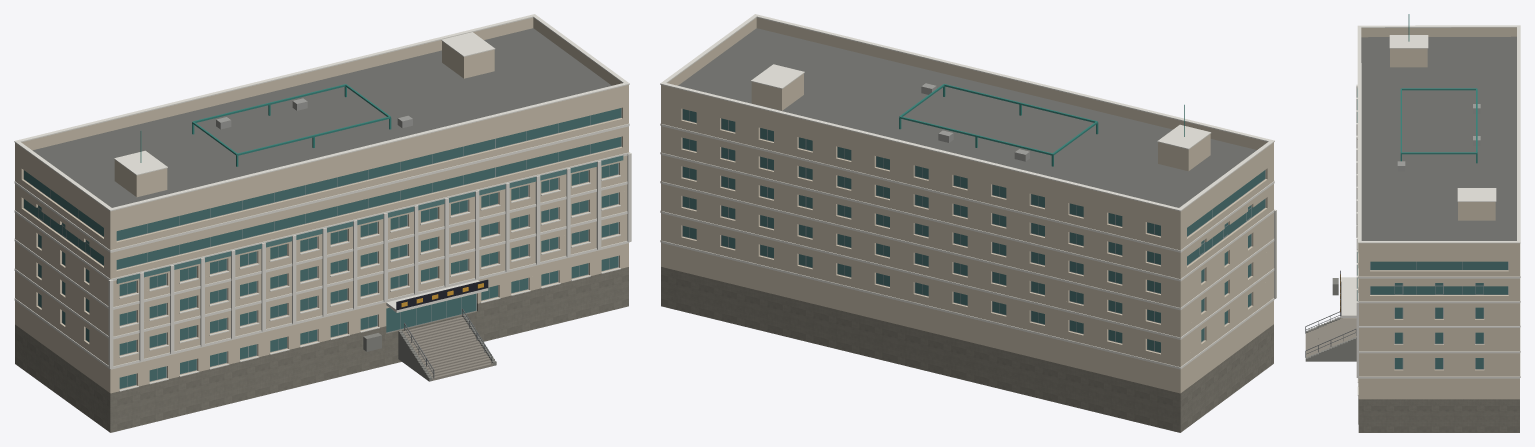
The picture shows the model from 3 angles, left to right: view 1: azimuth 30°, elevation 25°; view 2: azimuth 150°, elevation 25°; view 3: azimuth 270°, elevation 25°; orthographic projection. The views are drawn at different scales.
Parts seen in each view (by area): view 1: w451562739__panel-wall, w451562739__roof, w451562739__trim, w451562739__glass, w451562739__plinth-wall, w451562739__frame, w451562739__stone-step, w451562739__panel-teal-wall, w451562739__door-glass, w451562739__steel-teal, w451562739__granite-wall, w451562739__led-dark; view 2: w451562739__panel-wall, w451562739__roof, w451562739__plinth-wall, w451562739__trim, w451562739__glass, w451562739__frame, w451562739__steel-teal; view 3: w451562739__roof, w451562739__panel-wall, w451562739__trim, w451562739__plinth-wall, w451562739__glass, w451562739__stone-step, w451562739__granite-wall, w451562739__steel-teal, w451562739__frame, w451562739__rail, w451562739__ac.
Part boxes in pixels (x1,y1,x2,y2): w451562739__panel-wall: (15,17,628,393); w451562739__roof: (32,28,611,207); w451562739__trim: (14,14,631,391); w451562739__glass: (24,108,621,388); w451562739__plinth-wall: (15,267,628,432); w451562739__frame: (23,108,621,389); w451562739__stone-step: (403,317,493,380); w451562739__panel-teal-wall: (116,155,623,283); w451562739__door-glass: (386,293,476,332); w451562739__steel-teal: (140,84,391,166); w451562739__granite-wall: (363,315,496,381); w451562739__led-dark: (396,279,488,309); w451562739__panel-wall: (661,17,1273,393); w451562739__roof: (678,28,1256,207); w451562739__plinth-wall: (661,267,1273,432); w451562739__trim: (660,14,1276,369); w451562739__glass: (683,109,1265,352); w451562739__frame: (682,109,1265,352); w451562739__steel-teal: (899,84,1184,166); w451562739__roof: (1361,36,1516,240); w451562739__panel-wall: (1358,27,1519,399); w451562739__trim: (1340,25,1520,395); w451562739__plinth-wall: (1358,396,1519,432); w451562739__glass: (1370,261,1507,368); w451562739__stone-step: (1305,318,1356,357); w451562739__granite-wall: (1305,278,1356,361); w451562739__steel-teal: (1400,14,1477,163); w451562739__frame: (1370,261,1508,369); w451562739__rail: (1305,311,1356,357); w451562739__ac: (1397,104,1480,171).
Size of the model in its own units: 68.29 by 33.24 by 28.52.
Materials: 17 (1 with a texture image).
